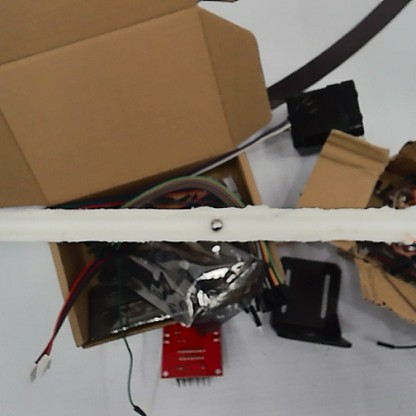ironball: (207, 213, 223, 232)
